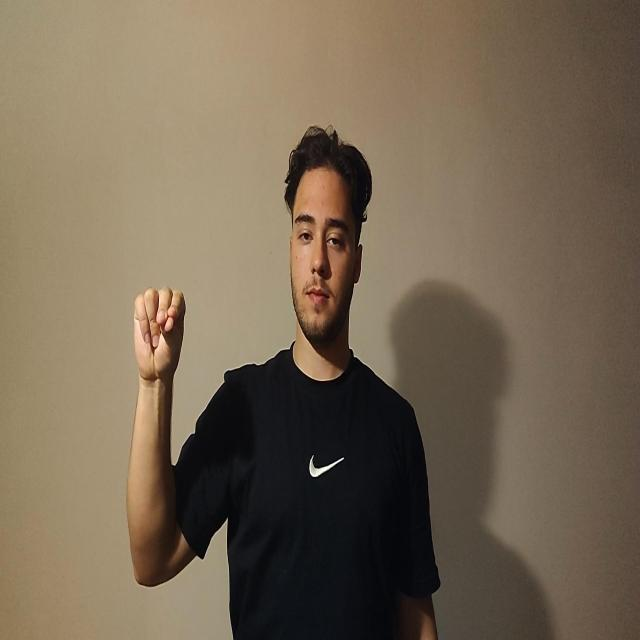no: (133, 284, 186, 383)
